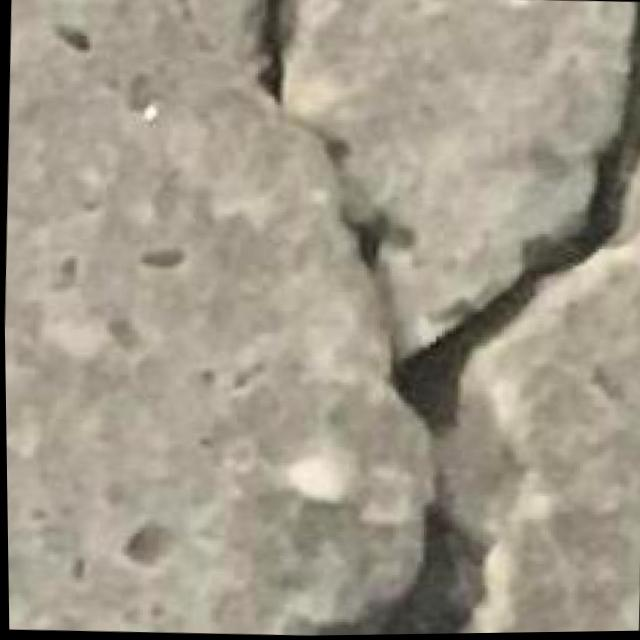Crack: (23, 25, 640, 640)
